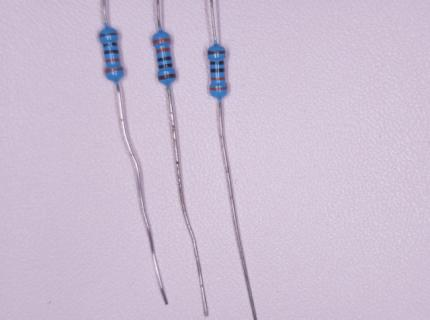Orange band: (152, 38, 171, 45), (105, 67, 123, 73), (157, 47, 171, 54), (105, 58, 120, 63), (211, 77, 226, 81), (209, 87, 228, 90)
